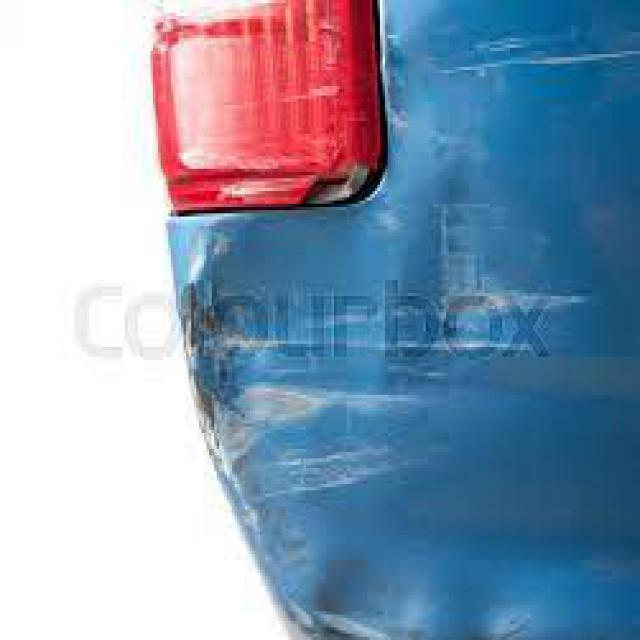rear-bumper-dent: (140, 0, 638, 637)
